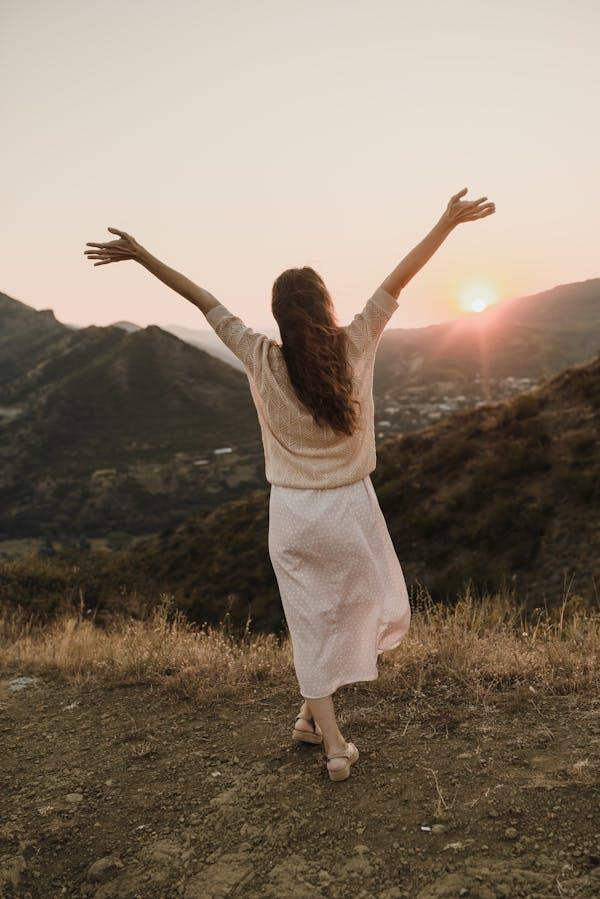Human: (95, 183, 600, 778)
